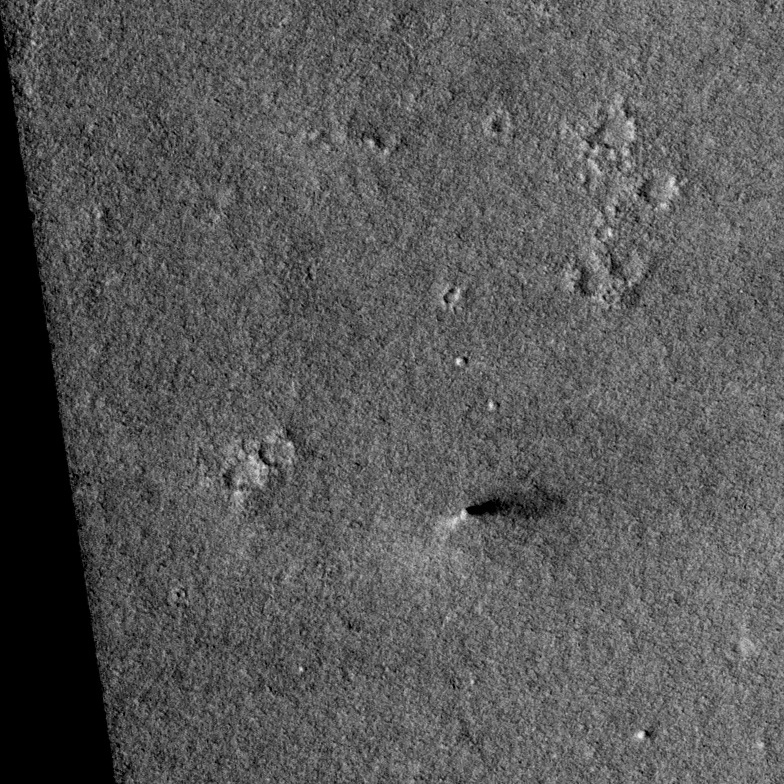dust_devil: (442, 493, 542, 532)
